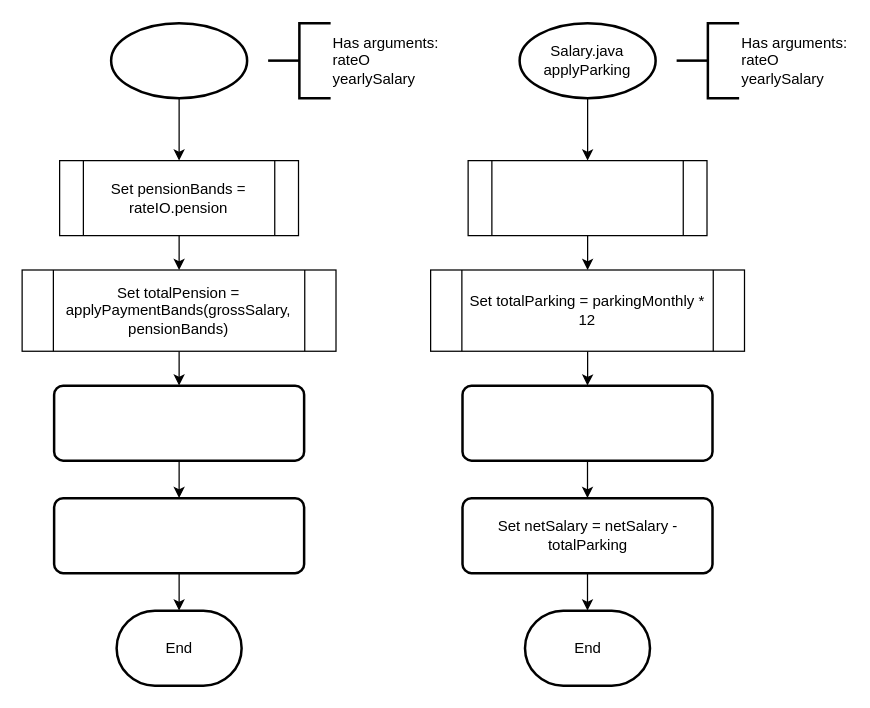
Image size: 870x708. Some labels were removed from this diagram. The shapes that lost their labels are listed below. From the top down, each one's centre as x and y in pixels, then its label:
At point 178,60: "Salary.java applyPension".
At point 587,197: "Set parkingMonthly = rateIO.monthlyParking".
At point 178,422: "Set totalDeductions = totalDeductions + totalPension".
At point 587,422: "Set totalDeductions = totalDeductions + totalParking".
At point 178,535: "Set netSalary = netSalary - totalPension".
